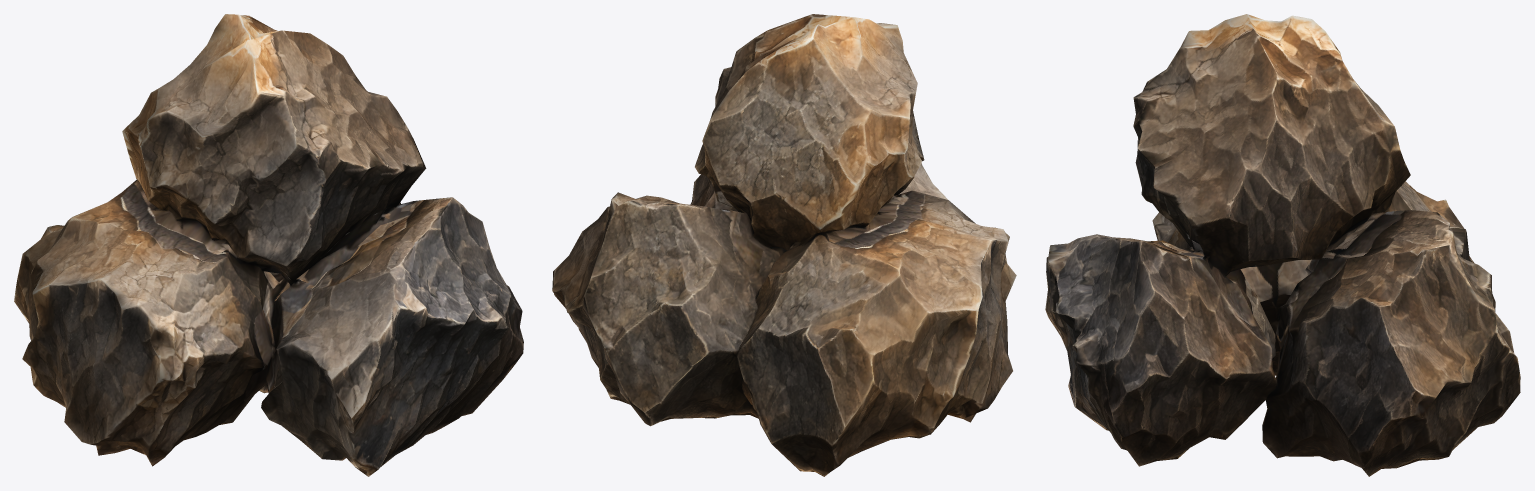
File: Stone.fbx
The picture shows the model from 3 angles, left to right: view 1: azimuth 30°, elevation 25°; view 2: azimuth 150°, elevation 25°; view 3: azimuth 270°, elevation 25°; orthographic projection. The views are drawn at different scales.
Parts seen in each view (by area): view 1: texture_mapping; view 2: texture_mapping; view 3: texture_mapping.
Part boxes in pixels (x1,y1,x2,y2): texture_mapping: (14,14,523,476); texture_mapping: (552,14,1016,476); texture_mapping: (1045,14,1520,476).
Size of the model in its own units: 99.23 by 94.03 by 99.97.
1 material, 1 textured.
